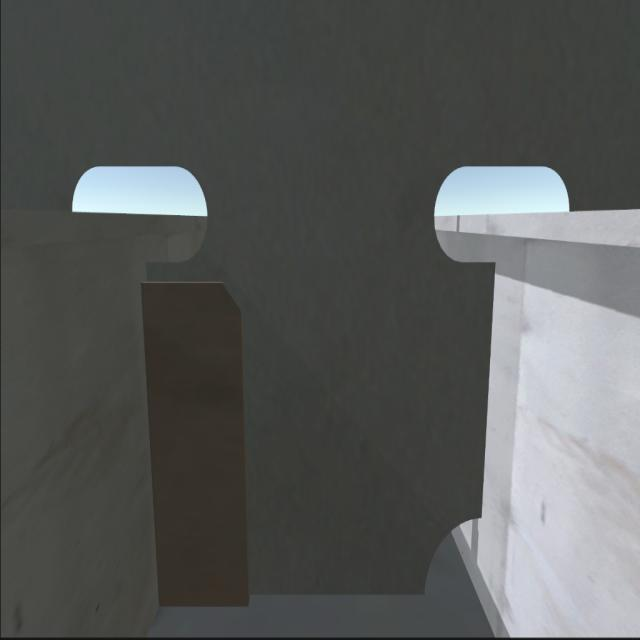fillet_hole: (422, 518, 482, 604)
fillet_yong_jeop_jang: (164, 581, 438, 611)
longi_yong_jeop_jang: (133, 271, 165, 613), (482, 251, 493, 514)
plate_CP03: (140, 272, 249, 604)
